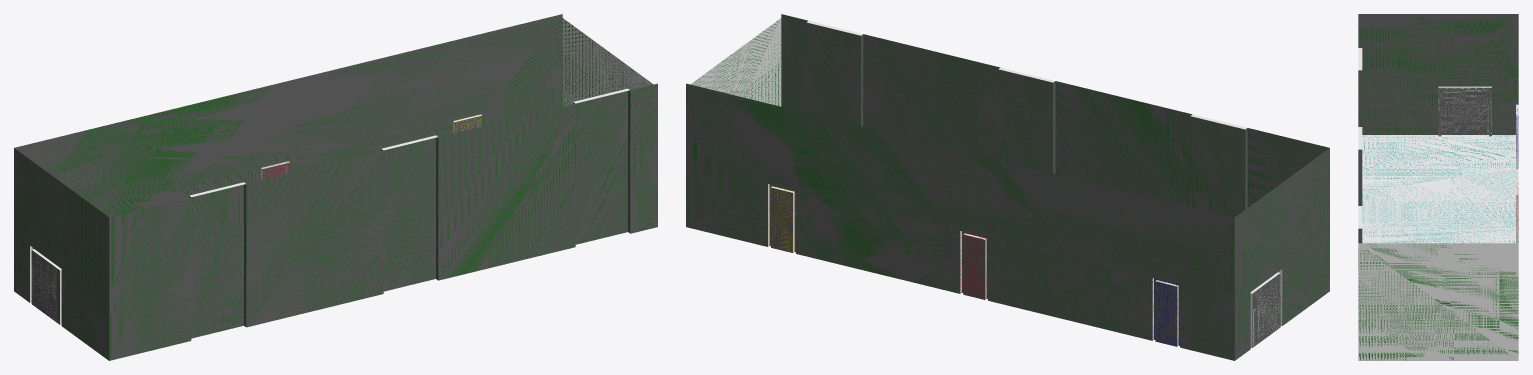
3 views of the same model, side by side, from view 1: azimuth 30°, elevation 25°; view 2: azimuth 150°, elevation 25°; view 3: azimuth 270°, elevation 25° (orthographic). The views are drawn at different scales.
Parts seen in each view (by area): view 1: SketchUp (×3); view 2: SketchUp (×6); view 3: SketchUp (×7).
Boxes of the visible parts, x1,y1,x2,y2 form: SketchUp (×3): (14, 14, 657, 360); SketchUp (×6): (686, 14, 1329, 360); SketchUp (×7): (1358, 14, 1518, 360).
Size of the model in its own units: 787 by 236 by 197.
